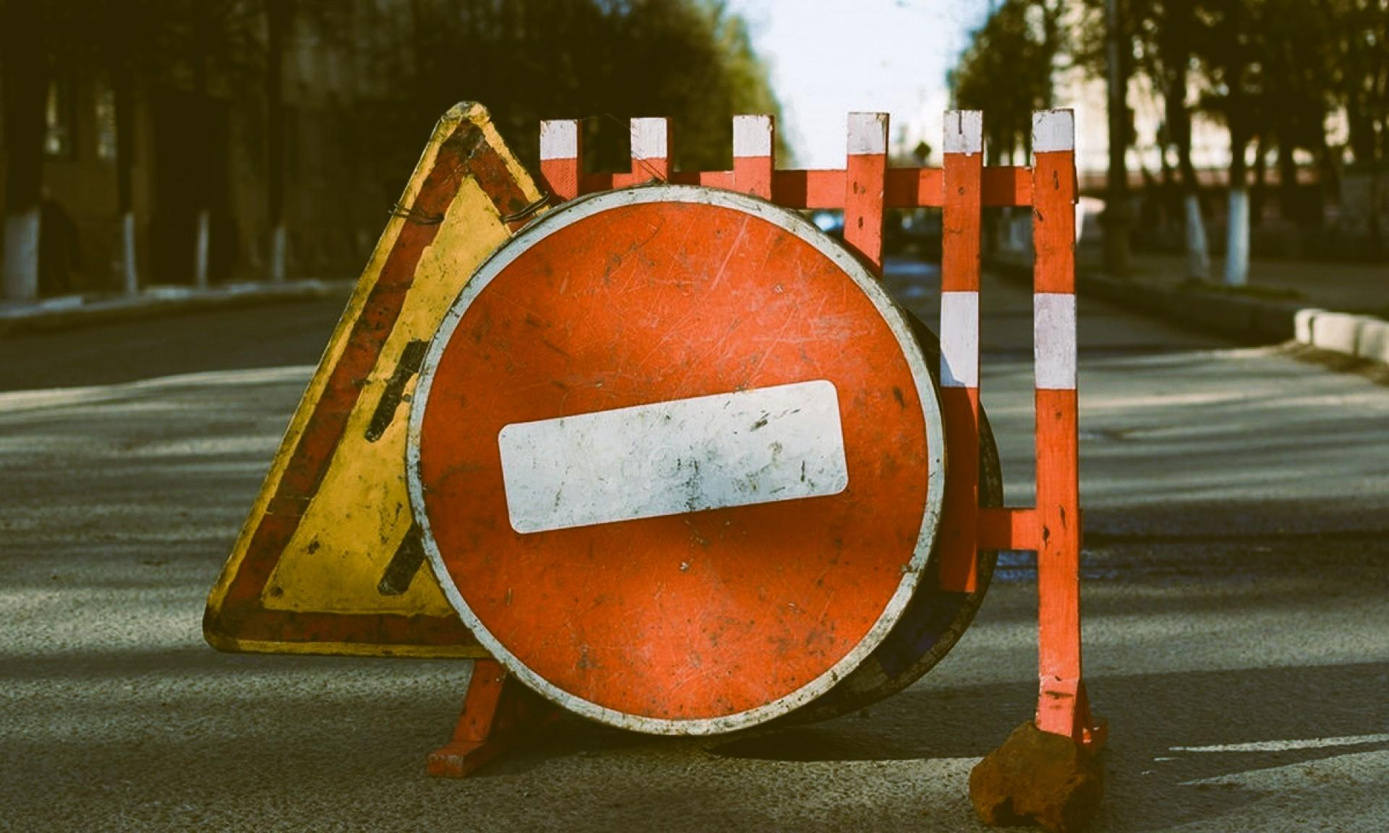obstructed_road_sign: (192, 92, 556, 660)
road_sign: (412, 180, 953, 740)
